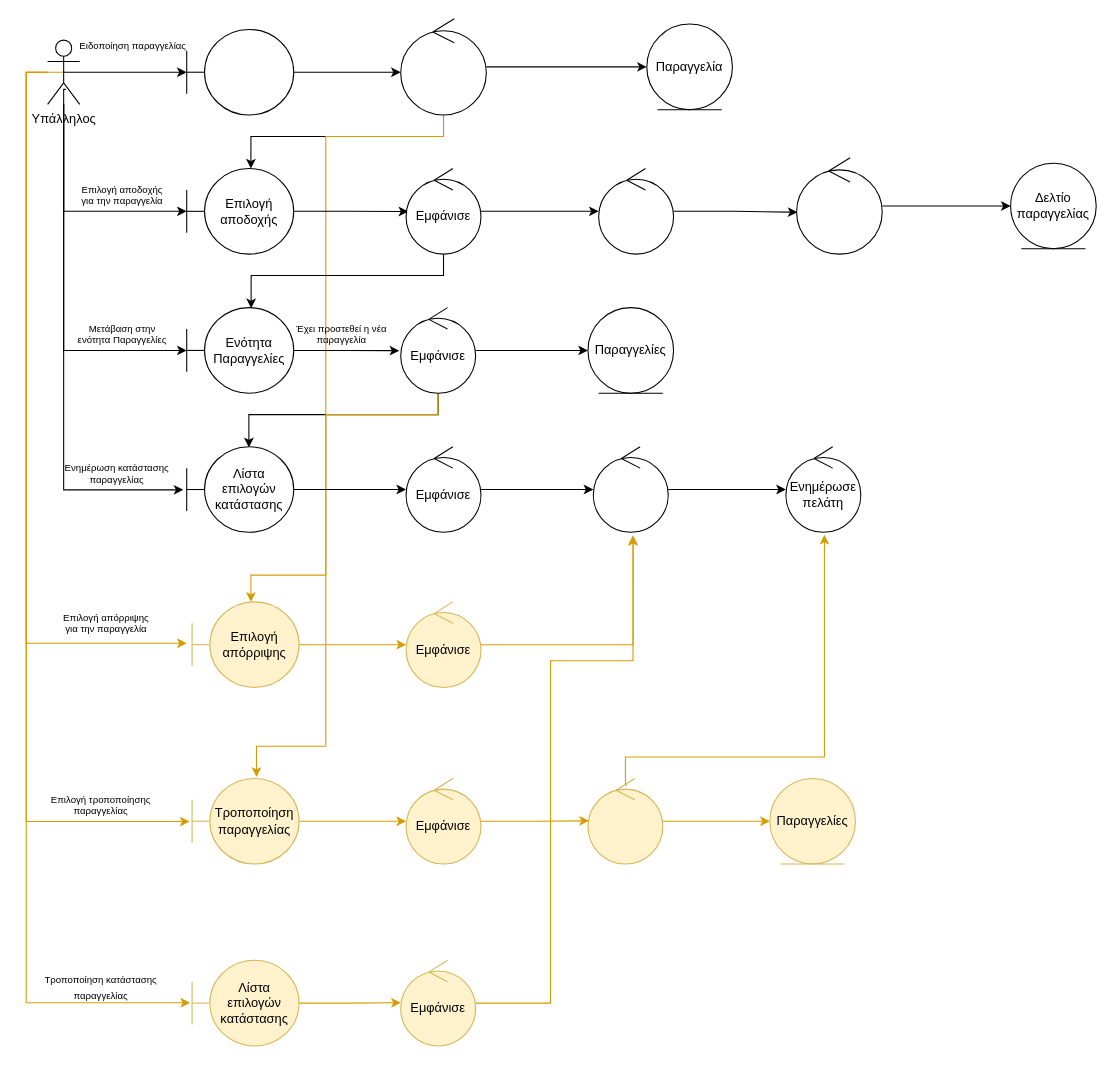
The diagram is 1115 pixels wide and 1065 high, and some of its shapes have lost their labels. Here are the shapes that lost their labels. From the top down, the box of each, then its label:
(186, 28, 294, 115): Κάποια οθόνη
(400, 18, 486, 115): Εμφάνισε ειδοποίηση παραγγελίας
(598, 167, 674, 254): Ενημέρωσε τον πελάτη
(796, 157, 882, 254): Εμφάνισε δελτίο παραγγελίας
(592, 446, 668, 532): Ενημέρωσε κατάσταση
(587, 777, 663, 864): Ενημέρωσε παραγγελία
